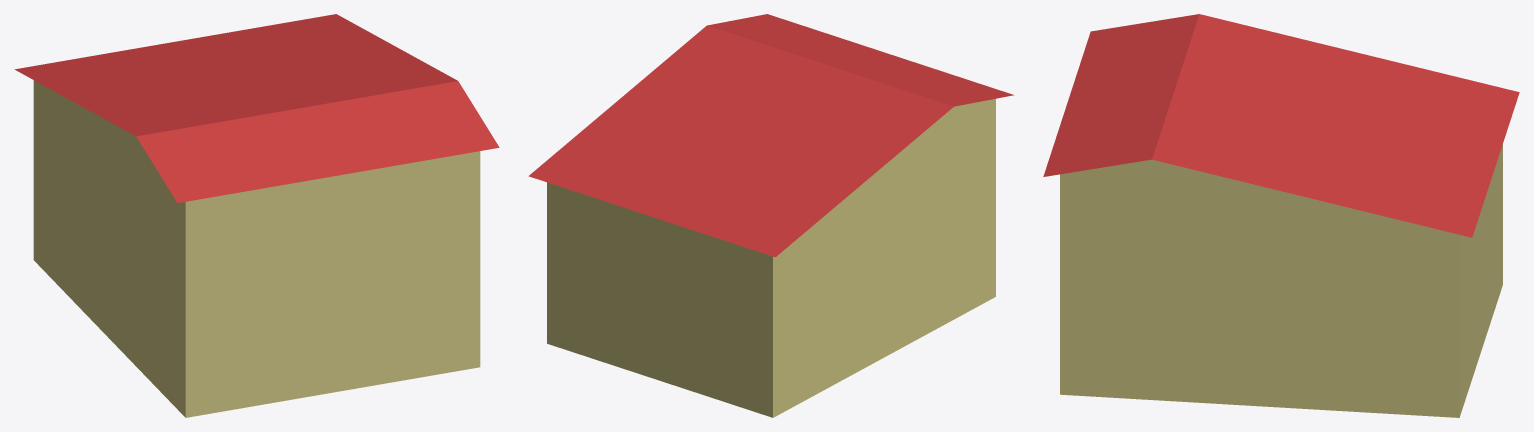
3 renders of one model, left to right at view 1: azimuth 30°, elevation 25°; view 2: azimuth 150°, elevation 25°; view 3: azimuth 270°, elevation 25°, orthographic. The views are drawn at different scales.
Bounding box in the file's own units: 13.59 × 16.04 × 9.17.
